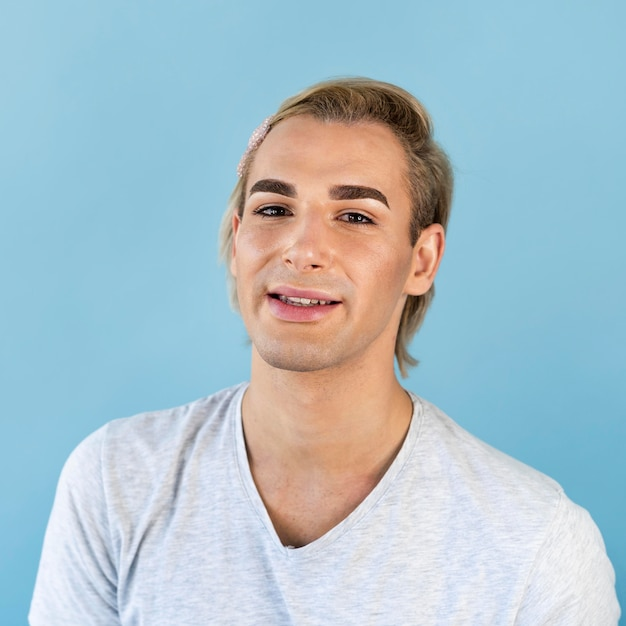teen: (203, 77, 464, 399)
